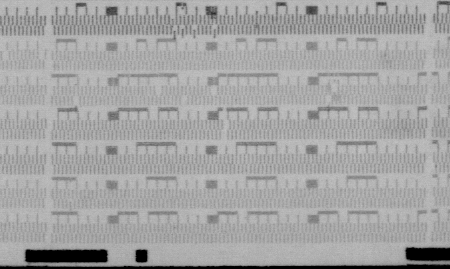Broken hole: (220, 119, 231, 140), (206, 83, 222, 96), (70, 96, 83, 109), (152, 83, 165, 96), (178, 95, 191, 107), (2, 48, 12, 61), (36, 49, 47, 60)
Oblique printing: (170, 25, 200, 42), (324, 82, 341, 108), (209, 26, 221, 41)
